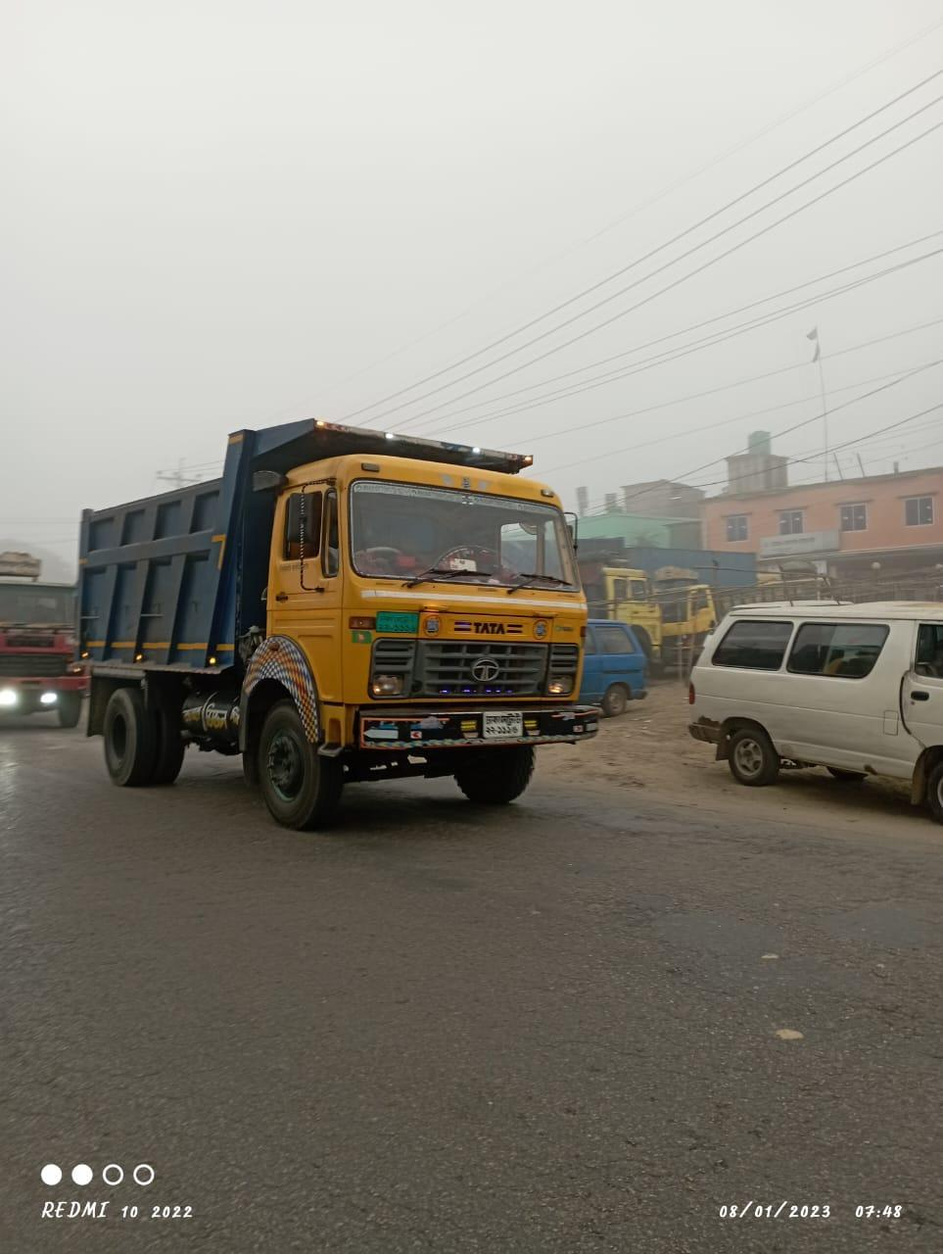Car: (686, 592, 943, 811), (597, 599, 658, 724)
Truck: (37, 408, 601, 845), (2, 611, 90, 733)
